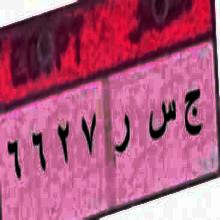2: (56, 116, 71, 168)
6: (28, 127, 47, 190), (7, 135, 24, 188)
7: (79, 111, 99, 157)
jeem: (180, 84, 204, 147)
raa: (111, 111, 132, 161)
seen: (142, 93, 178, 146)
